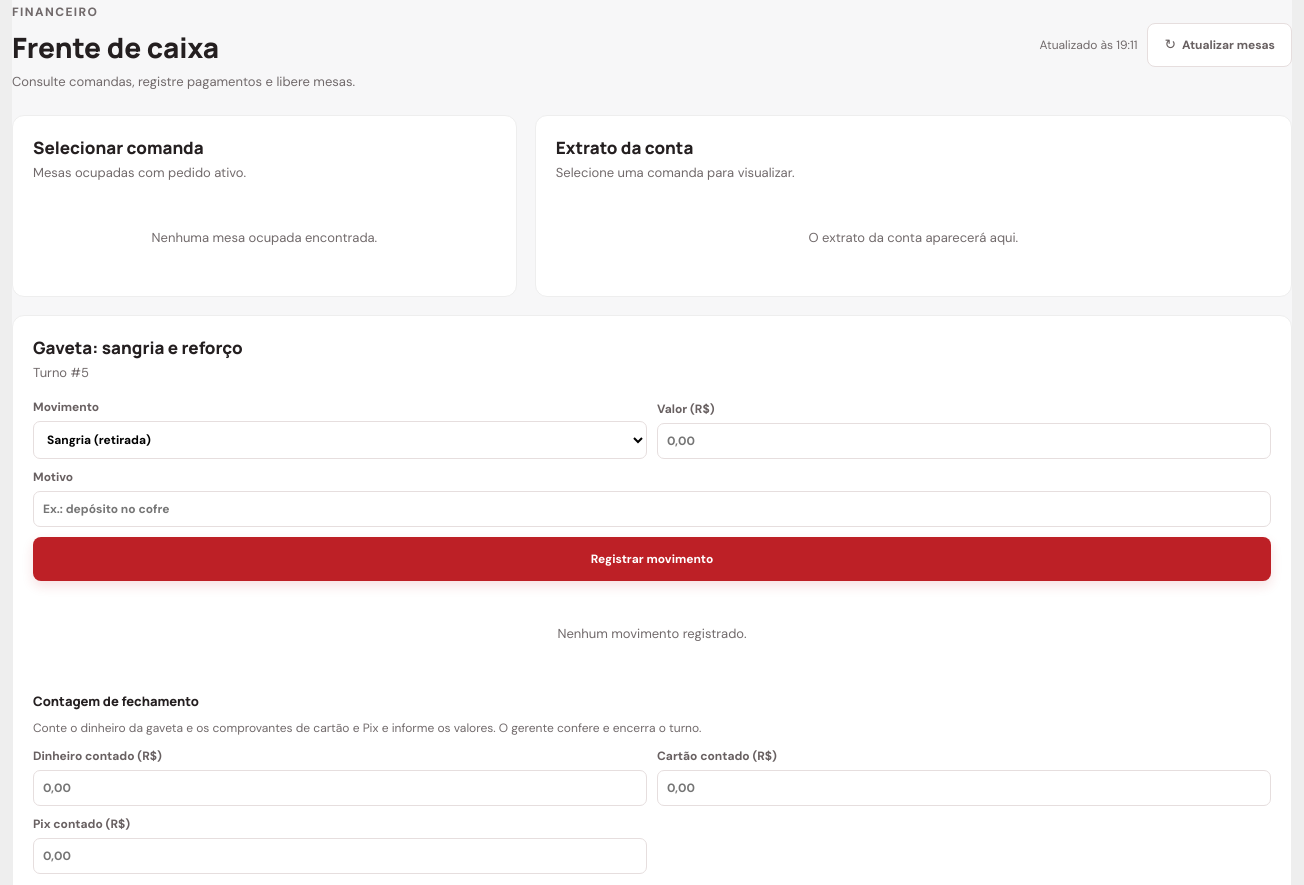
Test: Conferência cega no fechamento do turno (RN-14) › caixa informa dinheiro, cartão e Pix sem ver nenhum valor esperado
The image size is (1304, 885).
Type "137.5" into the number field labelled "Dinheiro contado (R$)" at (340, 788), box [33, 770, 647, 806]
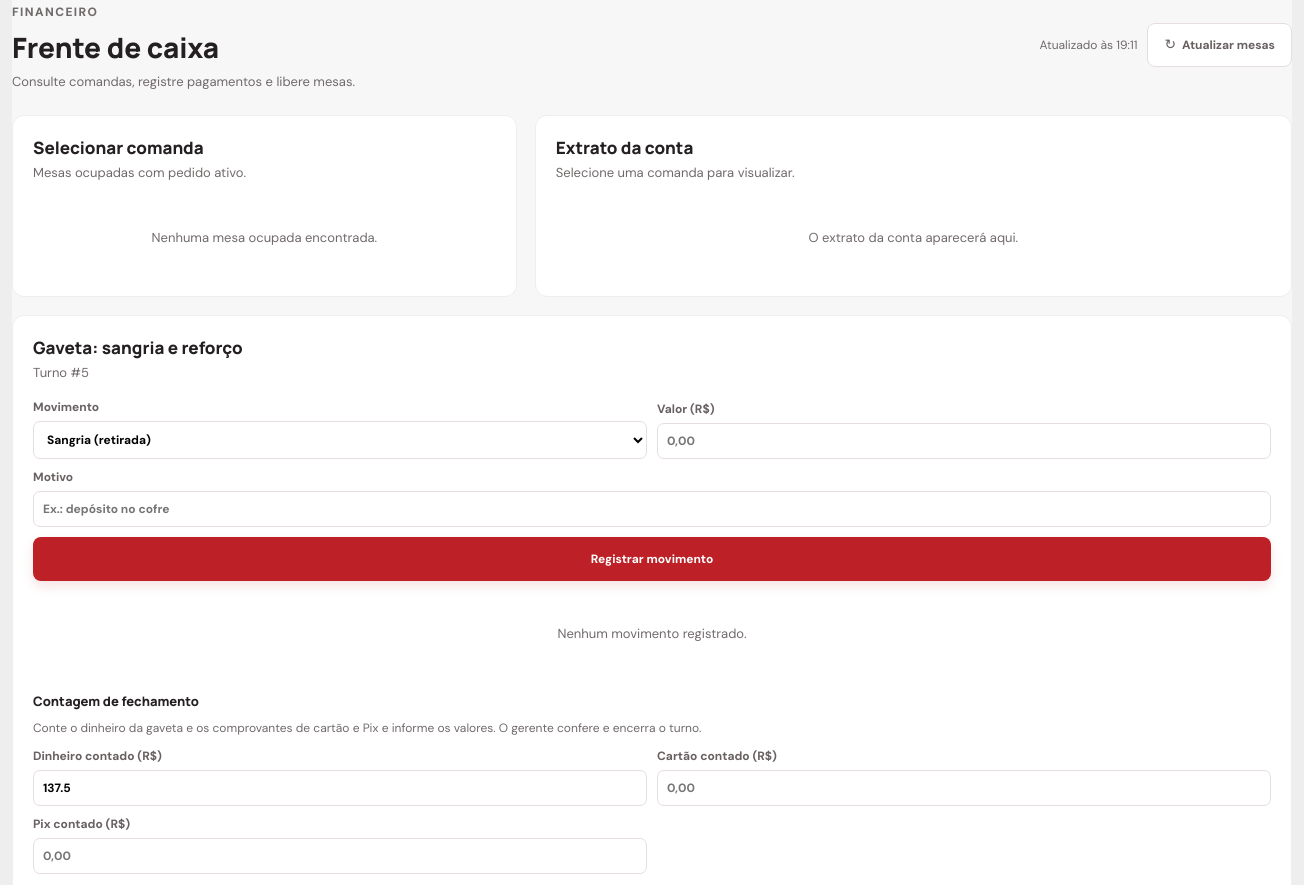
Type "0" into the number field labelled "Cartão contado (R$)" at (964, 788), box [657, 770, 1271, 806]
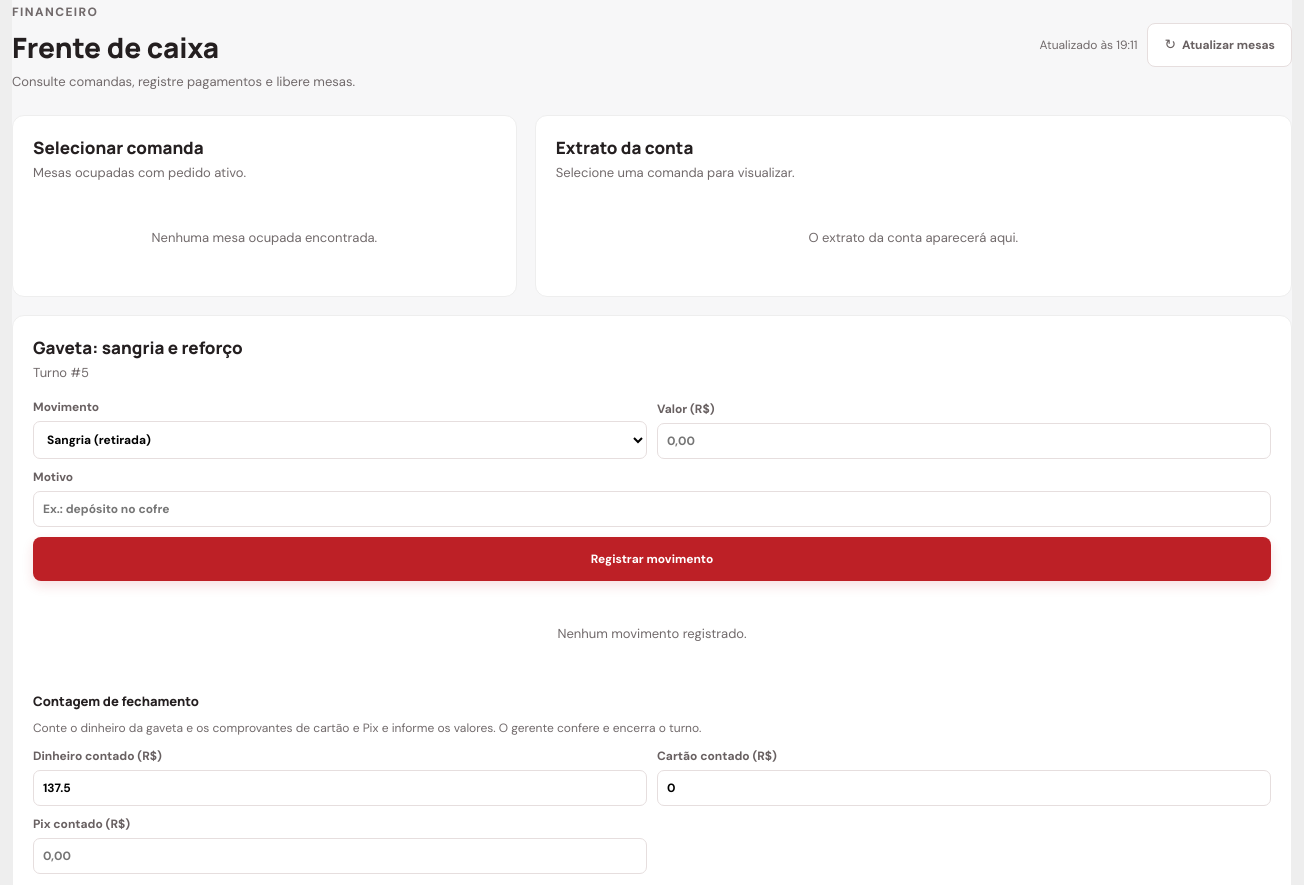
Type "49.9" into the number field labelled "Pix contado (R$)" at (340, 856), box [33, 838, 647, 874]
(page scrolled)
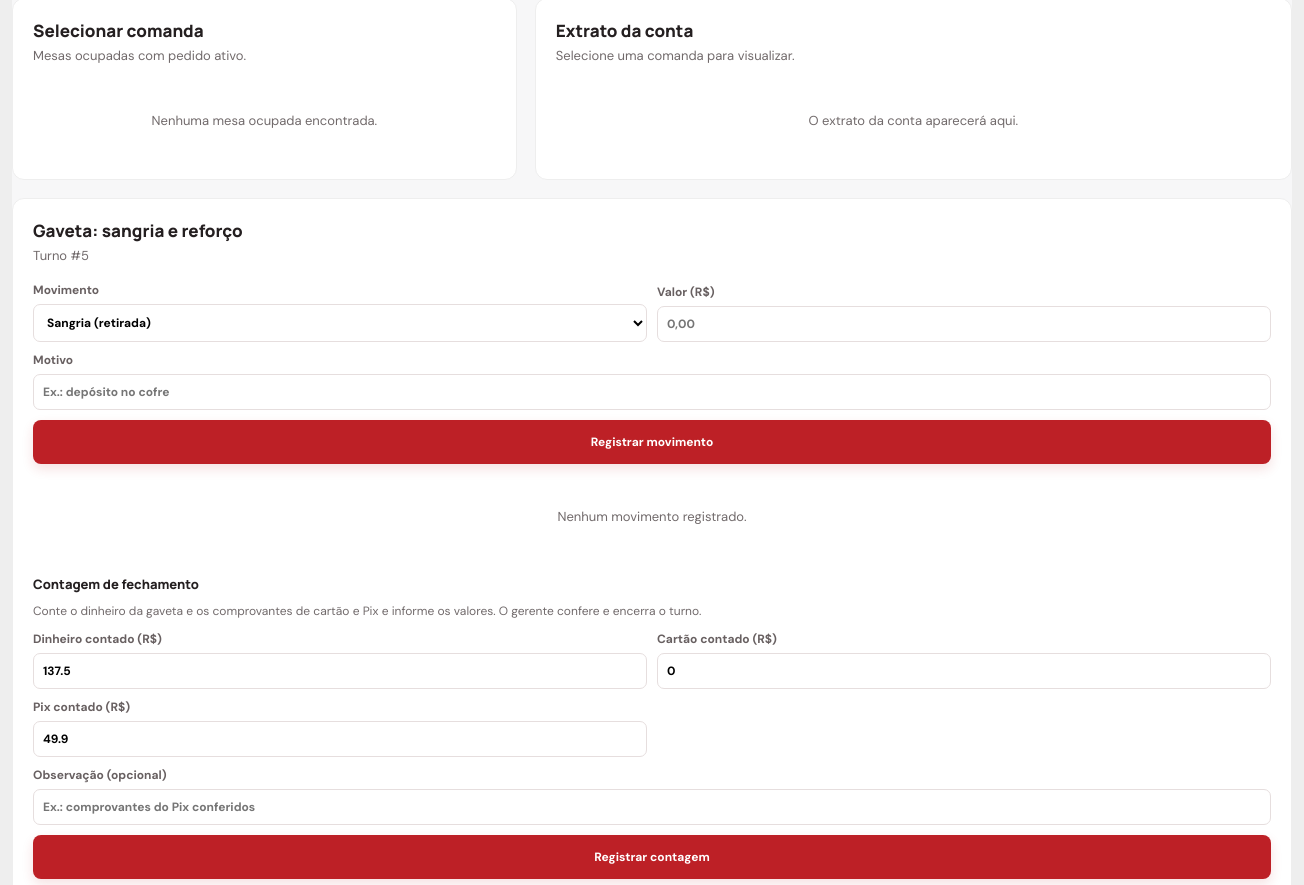
Click the button "Registrar contagem" at (652, 857), box [33, 835, 1271, 879]
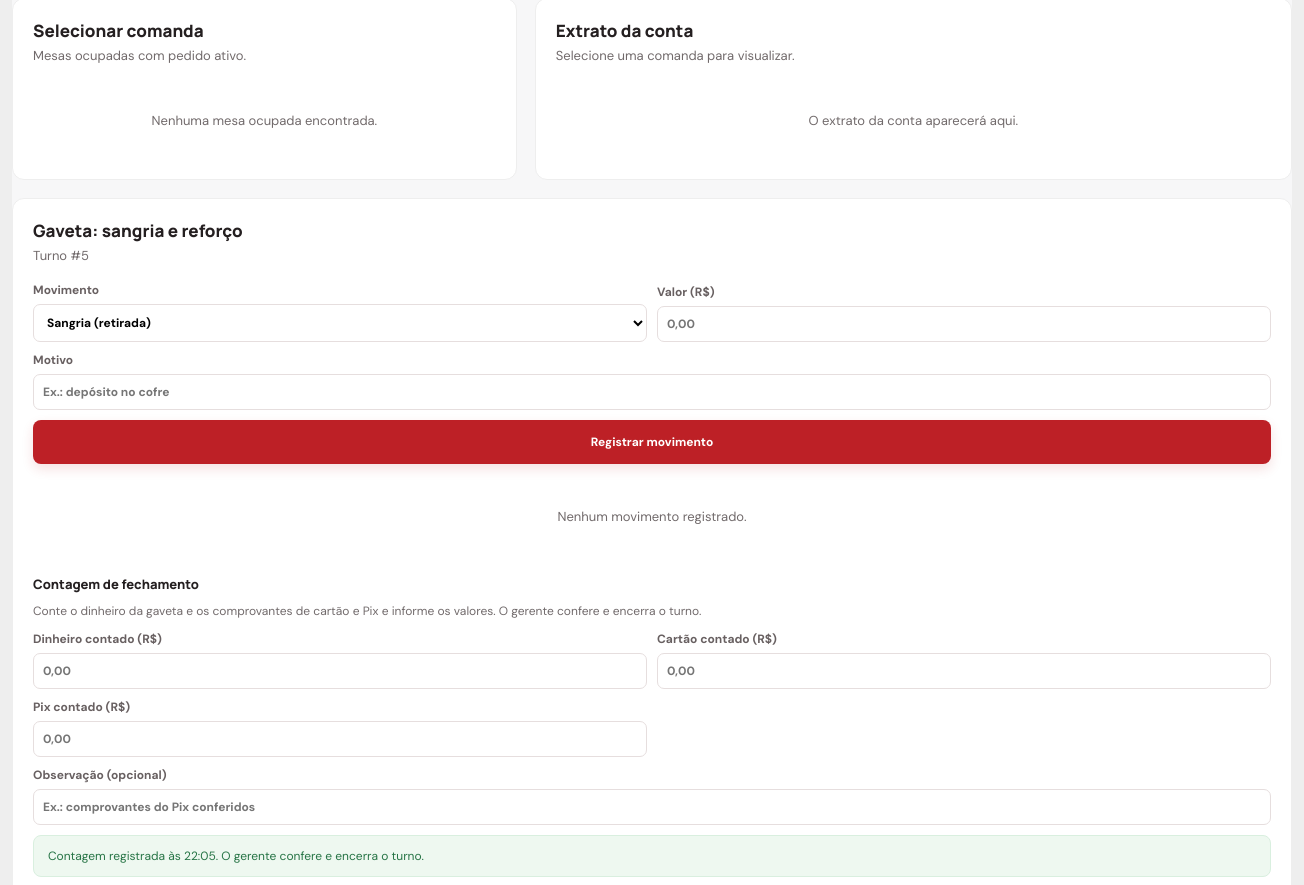
Expected: the text "Contagem registrada às" is shown, [48, 848, 424, 864]
